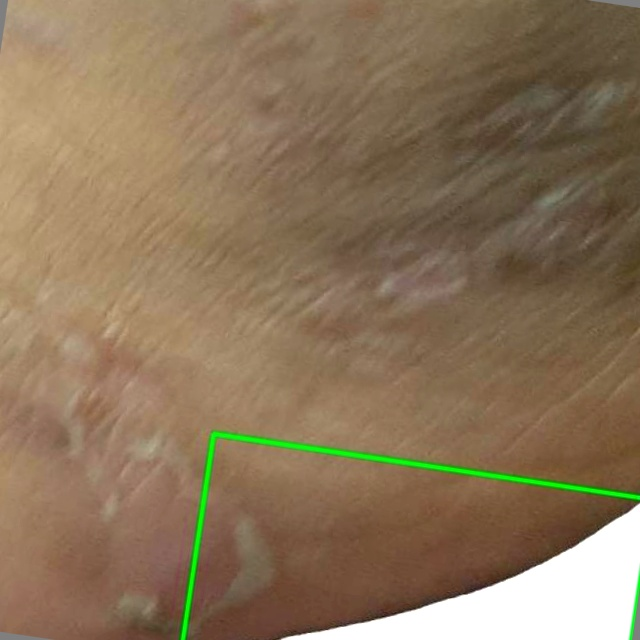Eczema: (182, 433, 639, 639)
